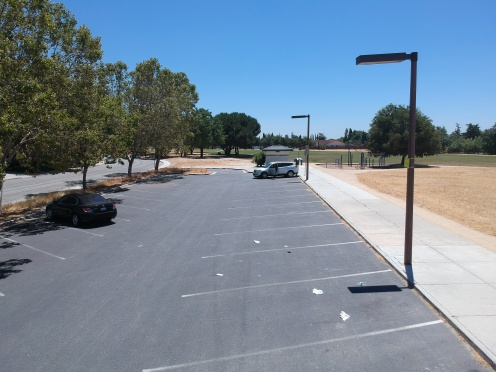bottle: (354, 279, 369, 288)
can: (282, 248, 296, 255)
plastic bag: (337, 309, 354, 323), (309, 287, 325, 298)
